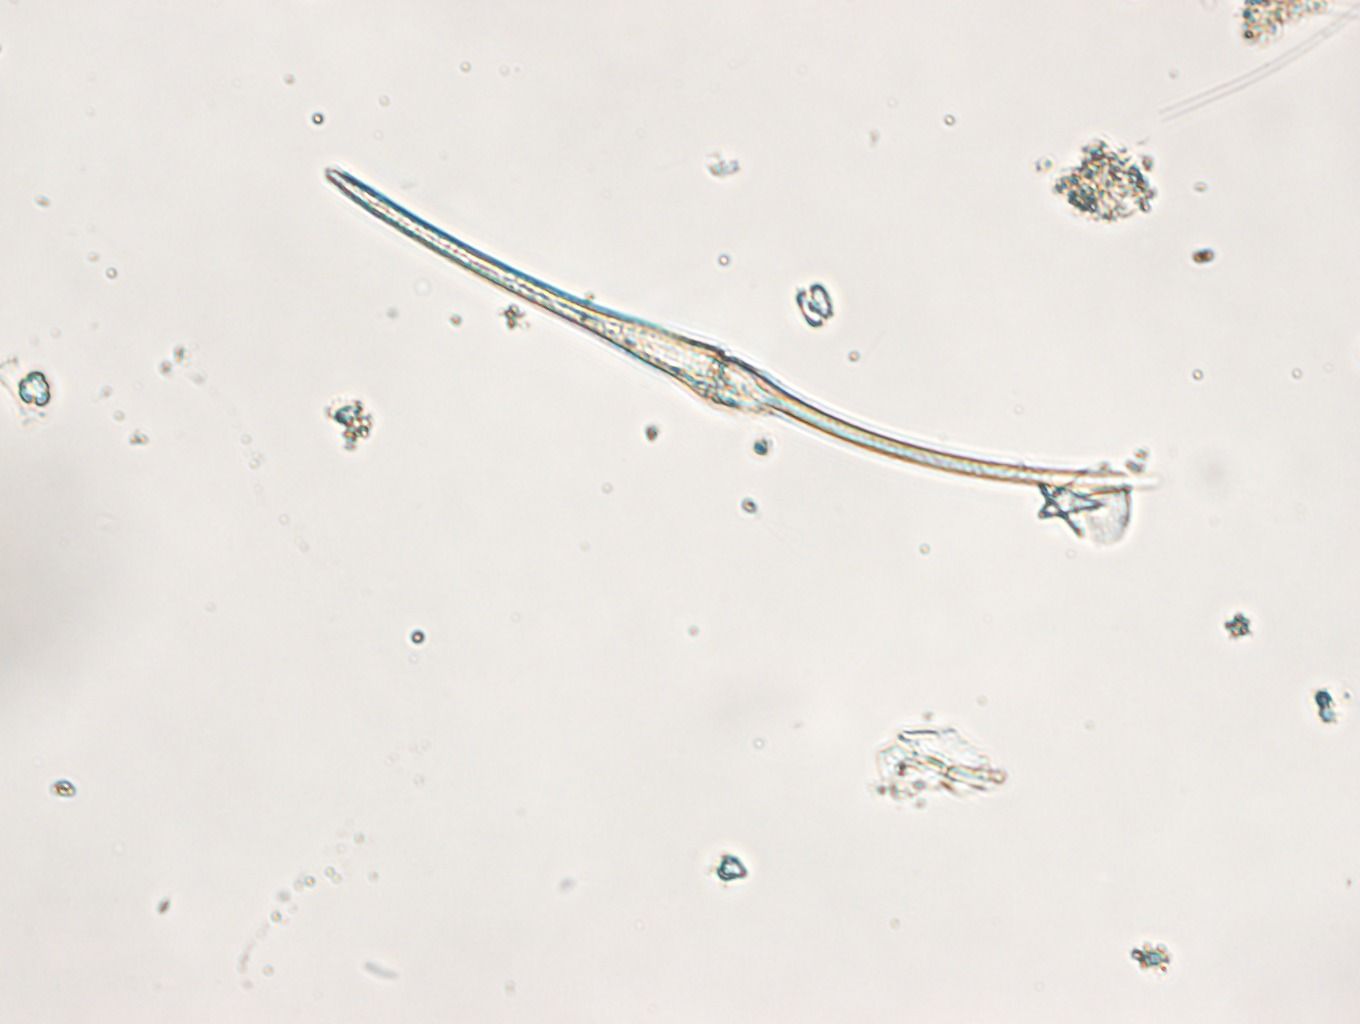ceratium furca: (325, 167, 1142, 493)
